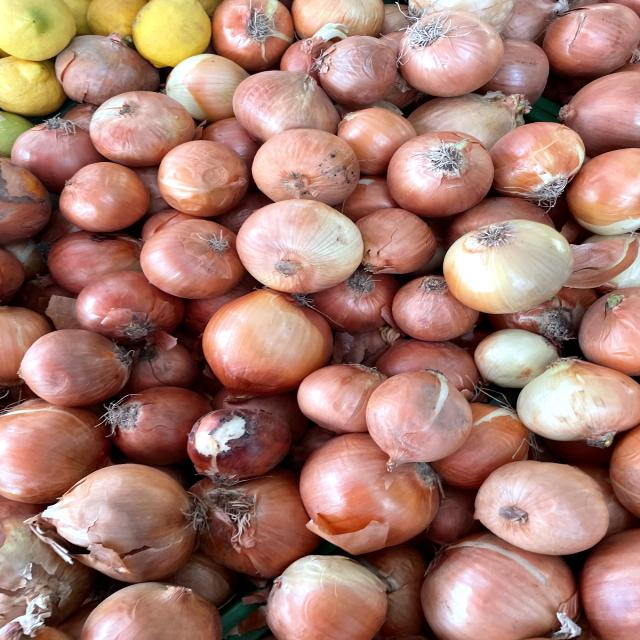onion: (195, 277, 342, 409), (465, 451, 620, 559), (431, 214, 586, 317), (248, 546, 397, 640), (231, 195, 365, 298), (364, 359, 479, 471), (513, 350, 640, 449), (11, 323, 141, 412), (386, 8, 514, 98), (242, 124, 370, 205), (383, 127, 497, 216), (82, 84, 194, 167), (134, 215, 242, 297)
